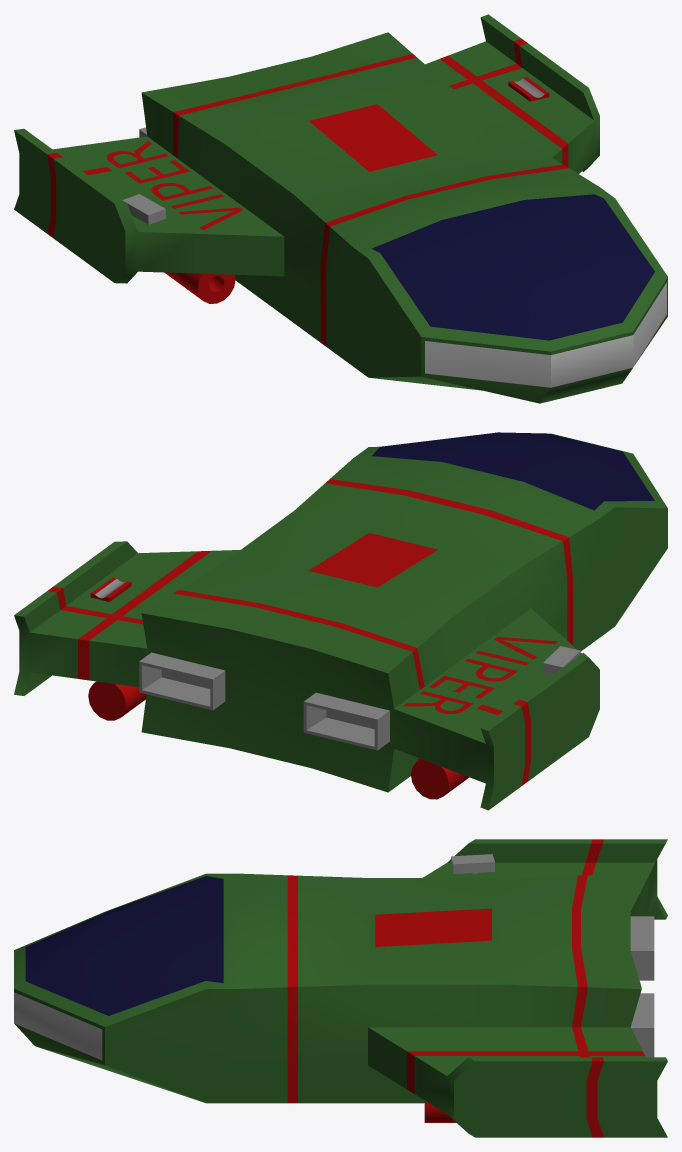
File: PlayerShipCorrect.fbx
3 renders of one model, top to bottom at view 1: azimuth 30°, elevation 25°; view 2: azimuth 150°, elevation 25°; view 3: azimuth 270°, elevation 25°, orthographic. The views are drawn at different scales.
Parts seen in each view (by area): view 1: Body, Text, Blaster_R, Cube_2; view 2: Body, Text, Blaster_L, Blaster_R, Cube_2; view 3: Body, Cube_2.
Part boxes in pixels (x1=…): Body: x1=14, y1=14, x2=667, y2=403; Text: x1=106, y1=141, x2=242, y2=230; Blaster_R: x1=165, y1=272, x2=235, y2=303; Cube_2: x1=122, y1=194, x2=165, y2=224; Body: x1=14, y1=432, x2=667, y2=810; Text: x1=403, y1=637, x2=558, y2=713; Blaster_L: x1=88, y1=681, x2=146, y2=720; Blaster_R: x1=411, y1=759, x2=468, y2=799; Cube_2: x1=542, y1=646, x2=580, y2=674; Body: x1=14, y1=839, x2=667, y2=1137; Cube_2: x1=451, y1=854, x2=495, y2=873.
Bounding box in the file's own units: 250 × 66.61 × 311.
